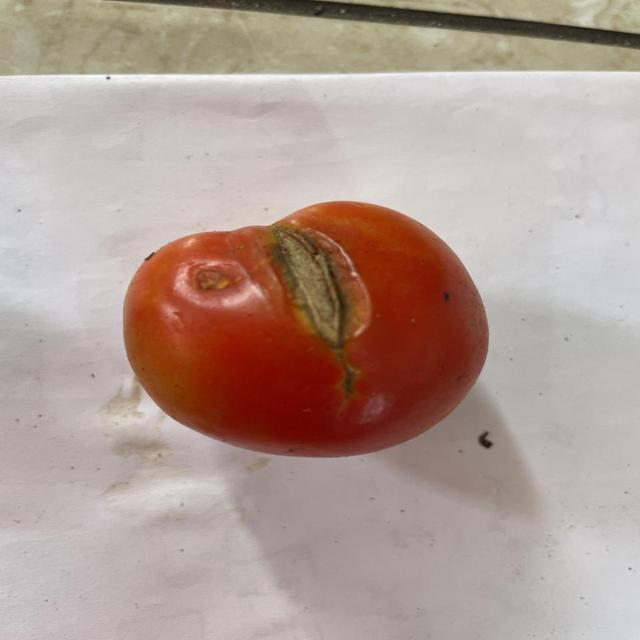Cracking Fruit: (176, 148, 255, 247)
